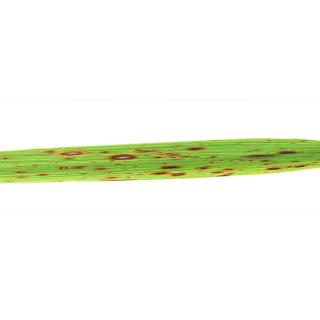bercak-Cokelat: (59, 162, 119, 182), (137, 143, 213, 157), (195, 162, 241, 182), (150, 162, 188, 179)
